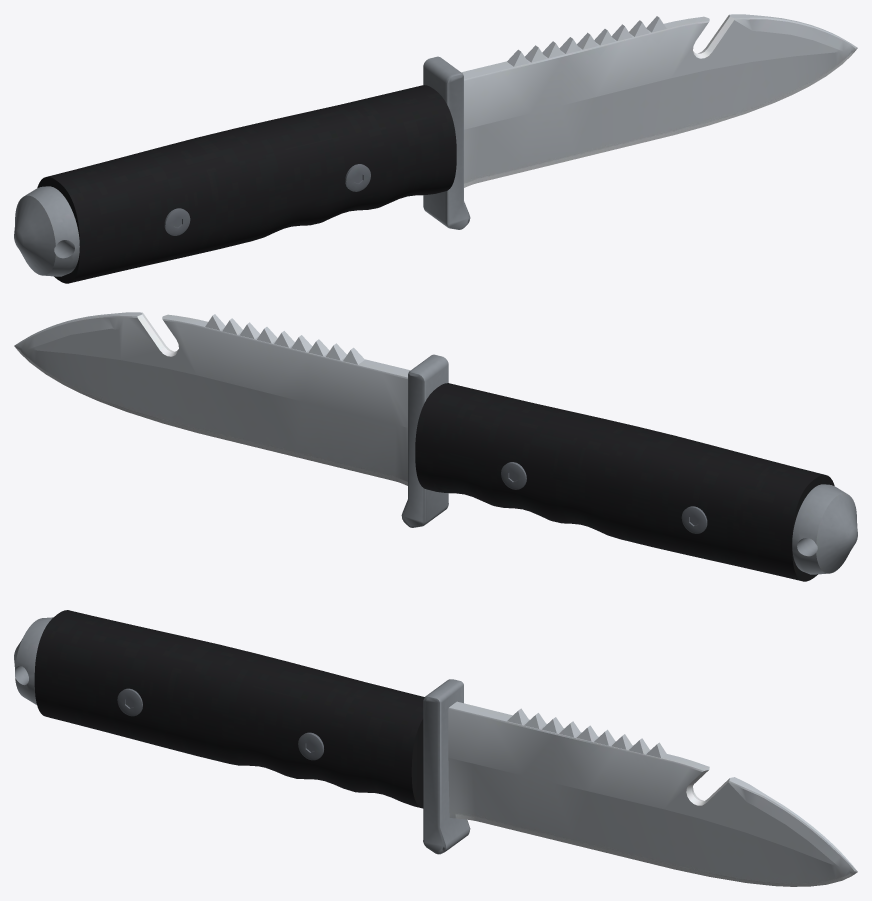
The model's file is survival_lod1.glb.
3 renders of one model, top to bottom at view 1: azimuth 30°, elevation 25°; view 2: azimuth 150°, elevation 25°; view 3: azimuth 330°, elevation 25°, orthographic.
Parts seen in each view (by area): view 1: body; view 2: body; view 3: body.
Part boxes in pixels (x1,y1,x2,y2): body: (14, 14, 857, 283); body: (14, 312, 857, 581); body: (14, 610, 857, 886).
Size of the model in its own units: 0.27 by 0.0482 by 0.0272.
5 materials, 5 textured.
